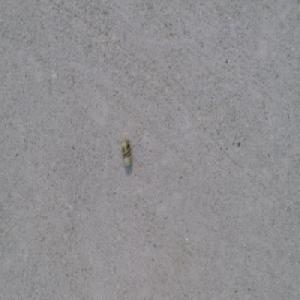BoltNutSet: (122, 139, 133, 166)
